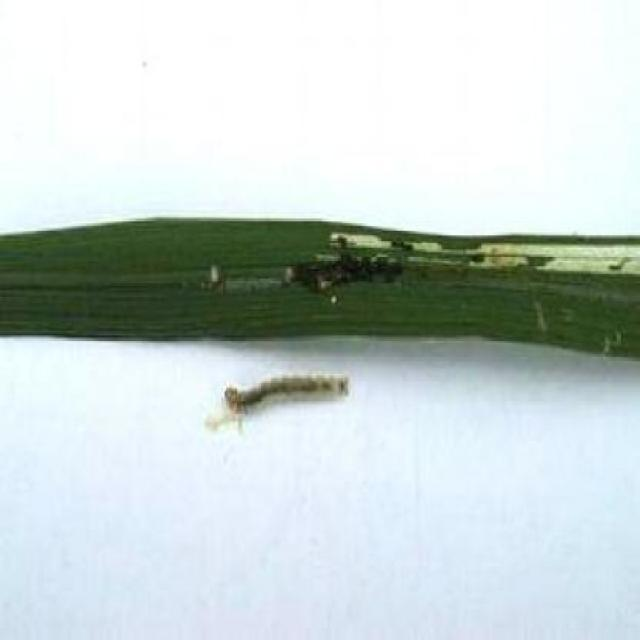leaf-folder: (208, 358, 355, 449)
